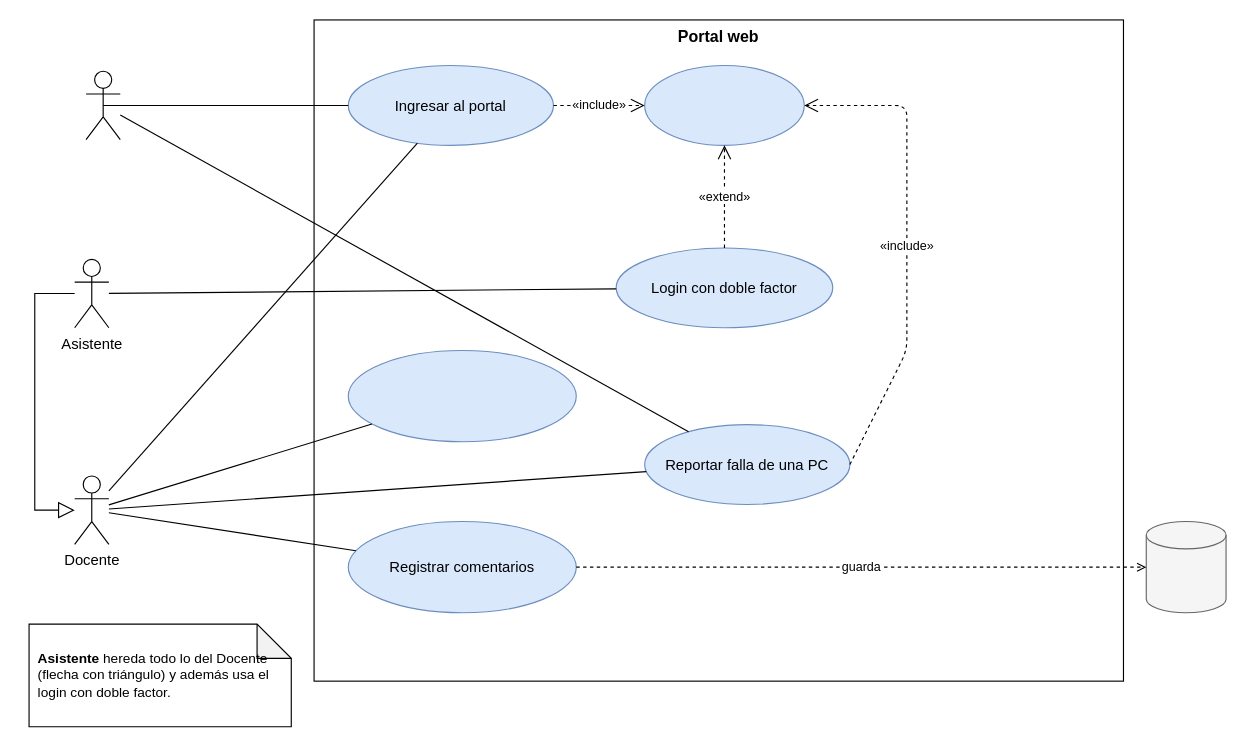
This 1246x747 diagram has some shape labels left out. The centre of each missing label's shape, as x and y in pixels:
"Base de datos" goes at point (1185, 566).
"Consultar estado del laboratorio" goes at point (461, 395).
"Estudiante" goes at point (102, 105).
"Login" goes at point (724, 104).
